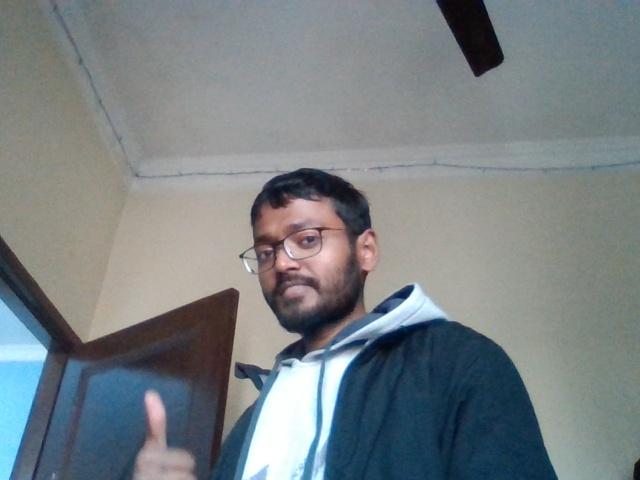good: (108, 397, 222, 480)
